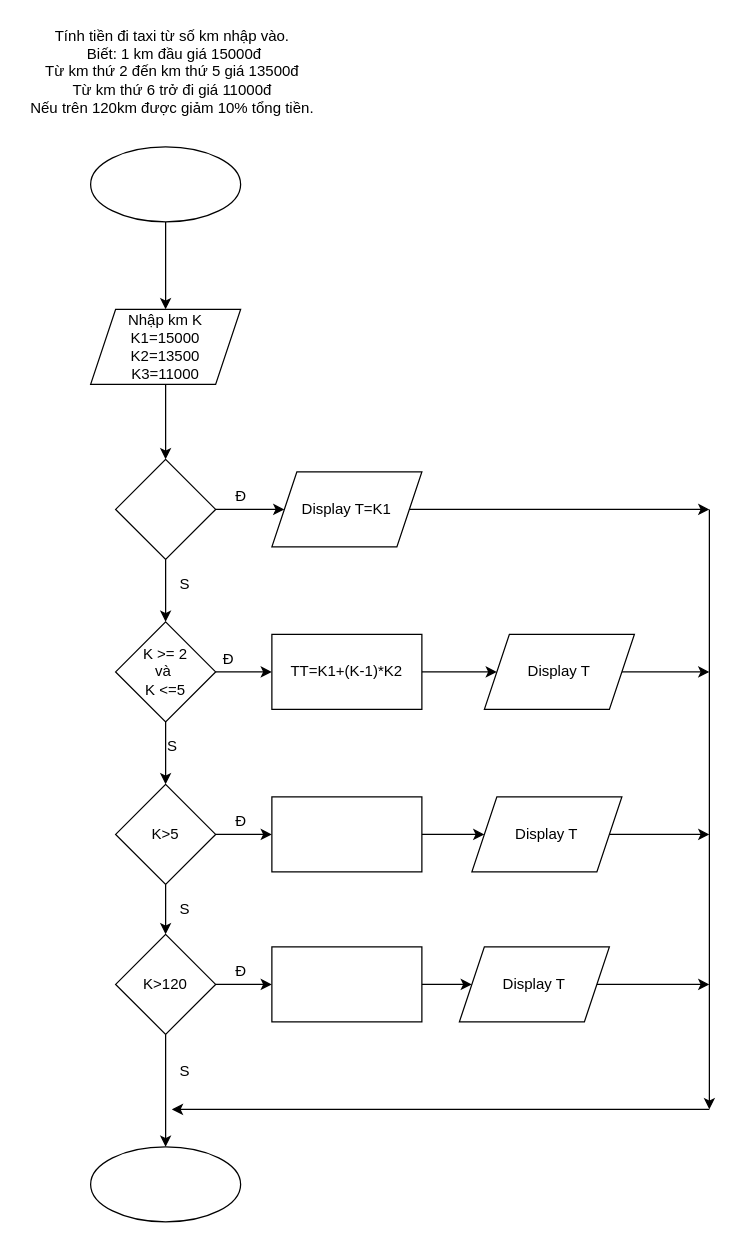
This 741x1244 diagram has some shape labels left out. The shapes that lost their labels are listed below. From the top down, each one's box as (x1, y1, x2, y2) in pixels, then its label:
(89, 146, 241, 222): Start
(114, 458, 216, 559): K=1
(271, 796, 422, 872): T=K1+4*K2+(K-5)*K3
(271, 946, 422, 1022): T=T*0.9
(89, 1146, 241, 1222): End
